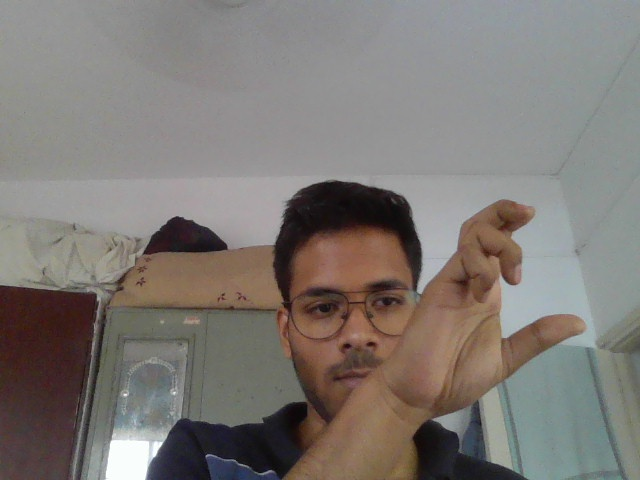no: (367, 183, 617, 438)
